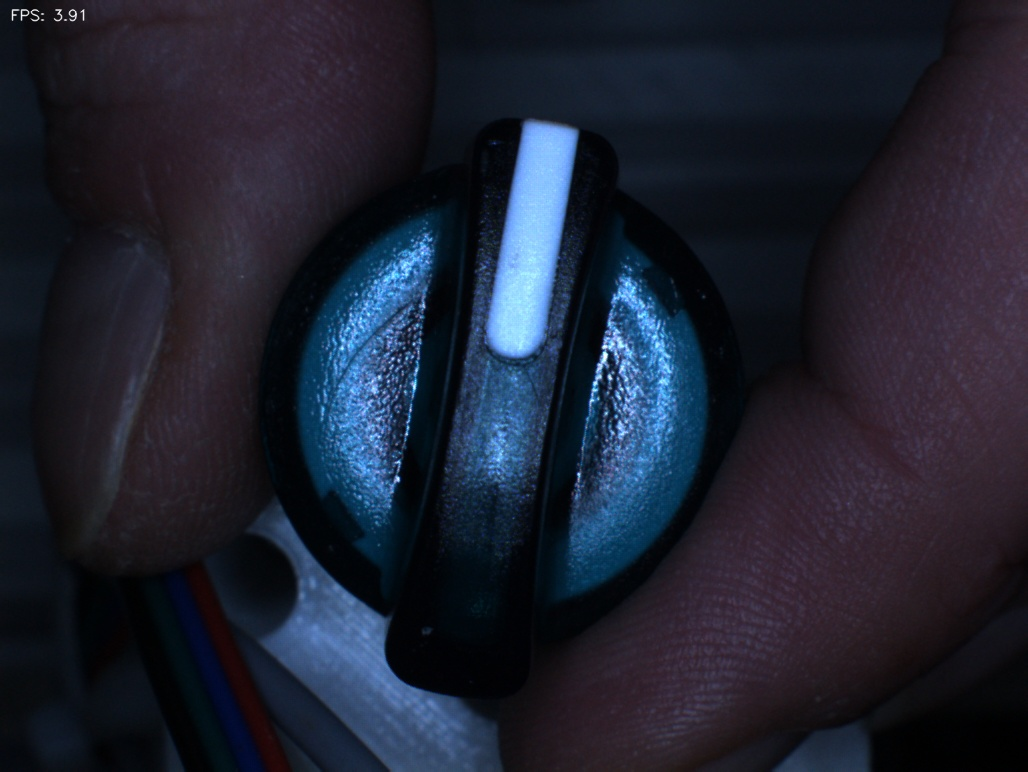PointNoir: (480, 215, 551, 309)
